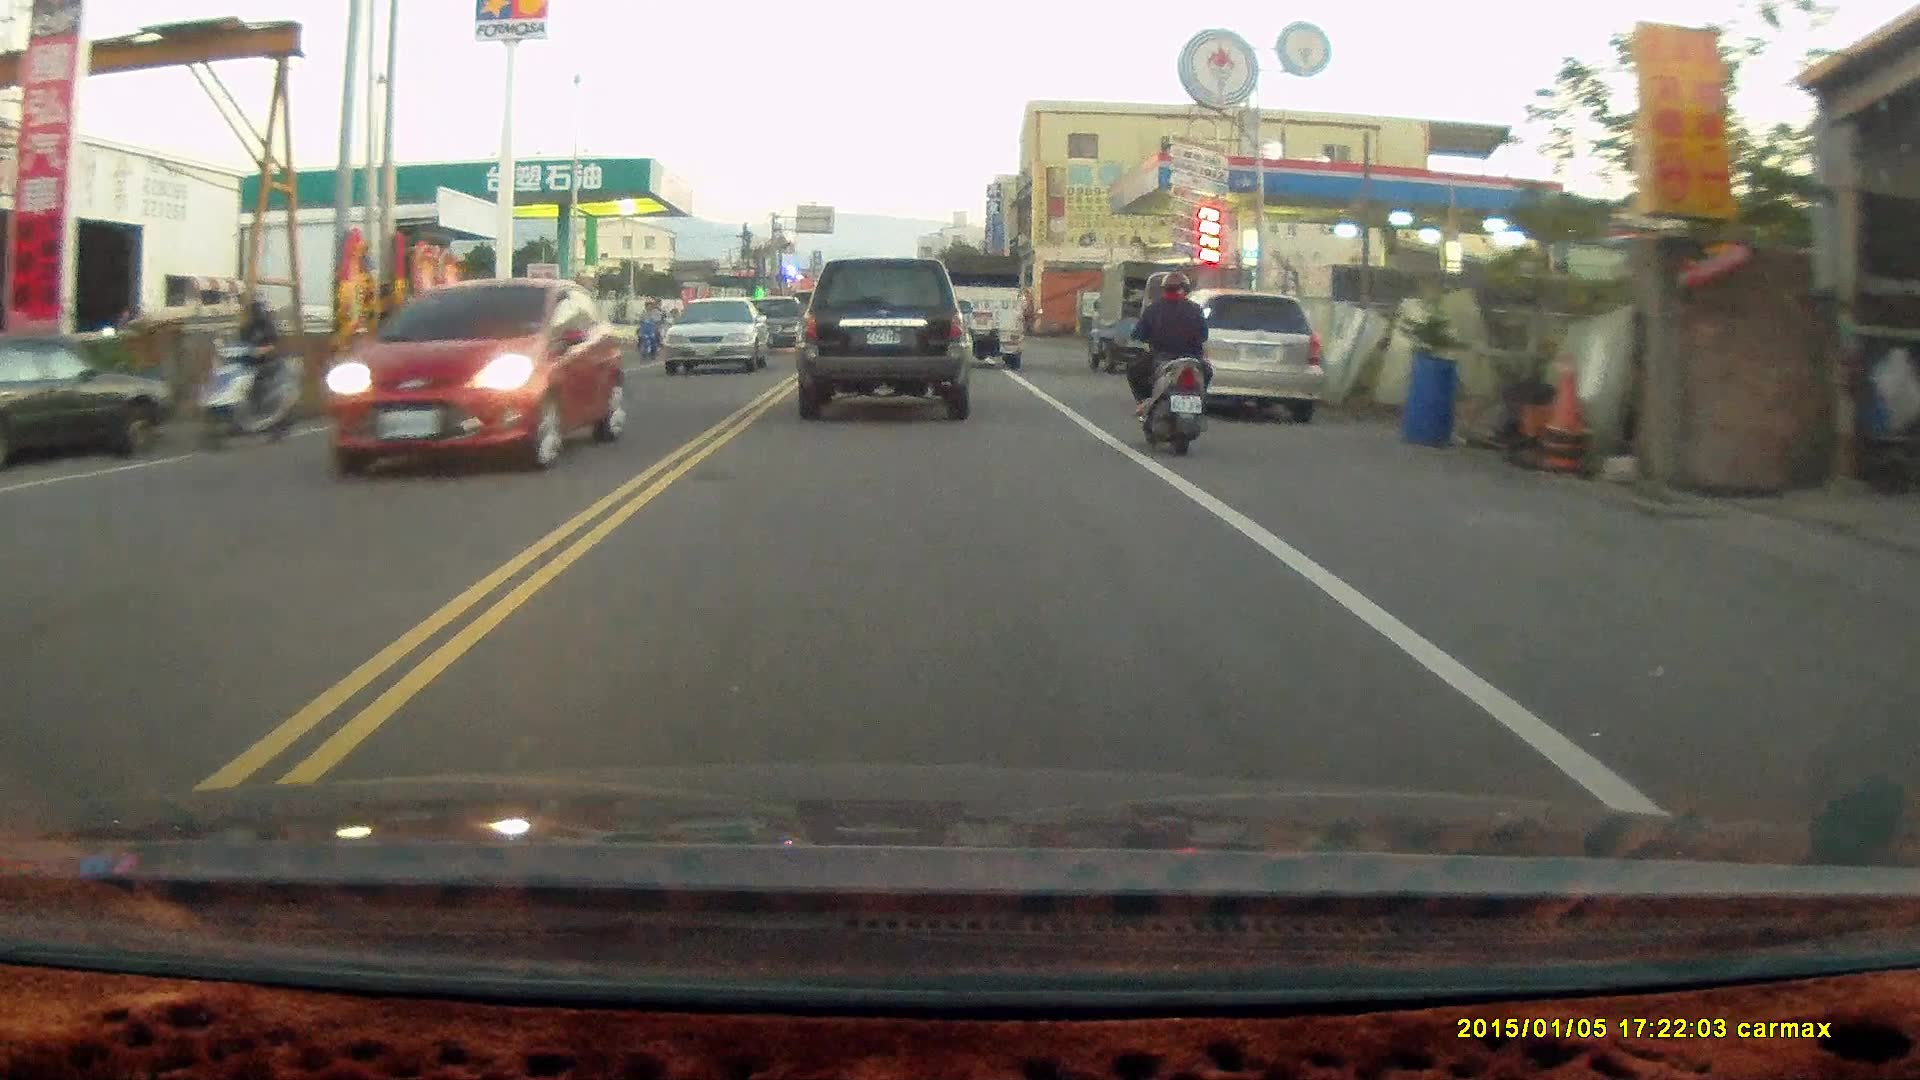rider: (171, 295, 299, 464), (1118, 270, 1215, 456), (631, 297, 667, 362)
vehicle: (329, 280, 623, 478), (795, 257, 968, 422), (394, 281, 585, 424), (1, 331, 171, 470), (1152, 291, 1322, 429), (1086, 260, 1198, 377), (937, 251, 1026, 370), (663, 295, 772, 375), (738, 298, 812, 352)
